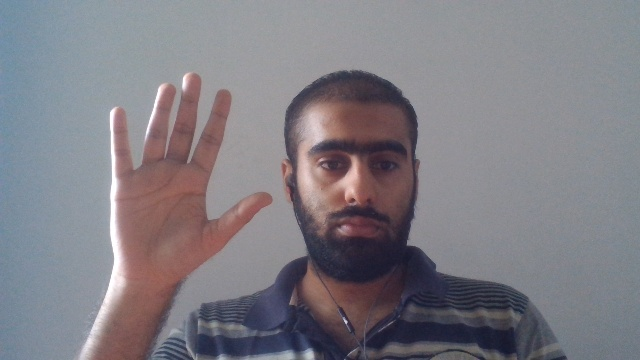paper: (108, 71, 274, 284)
